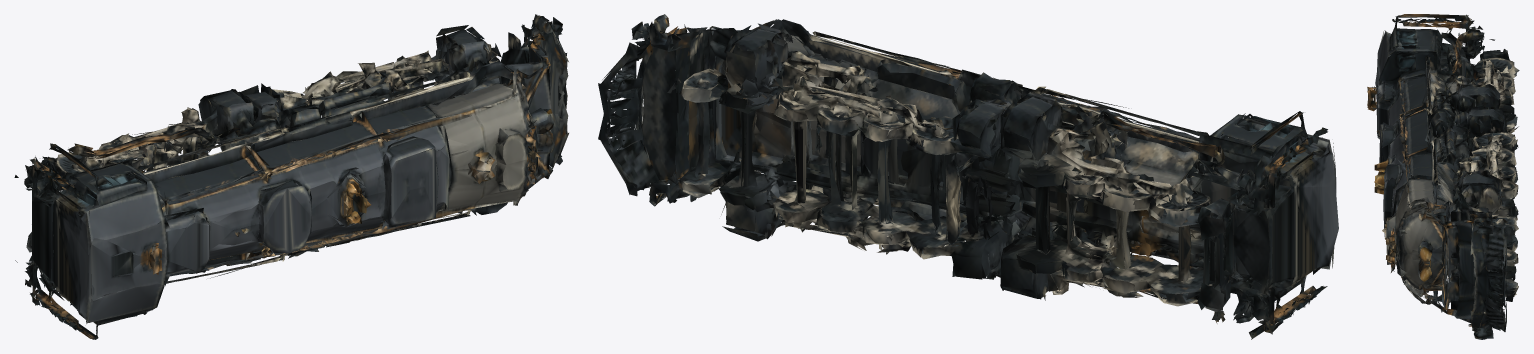
The model's file is big_boy_engine_r025.glb.
3 views of the same model, side by side, from view 1: azimuth 30°, elevation 25°; view 2: azimuth 150°, elevation 25°; view 3: azimuth 270°, elevation 25° (orthographic). The views are drawn at different scales.
Visible parts, largest first — view 1: part_engine.001; view 2: part_engine.001; view 3: part_engine.001.
Part boxes in pixels (x1,y1,x2,y2): part_engine.001: (14,14,568,339); part_engine.001: (598,14,1338,339); part_engine.001: (1367,14,1519,339).
Bounding box in the file's own units: 16.25 × 4.76 × 4.81.
Materials: 1 (1 with a texture image).
